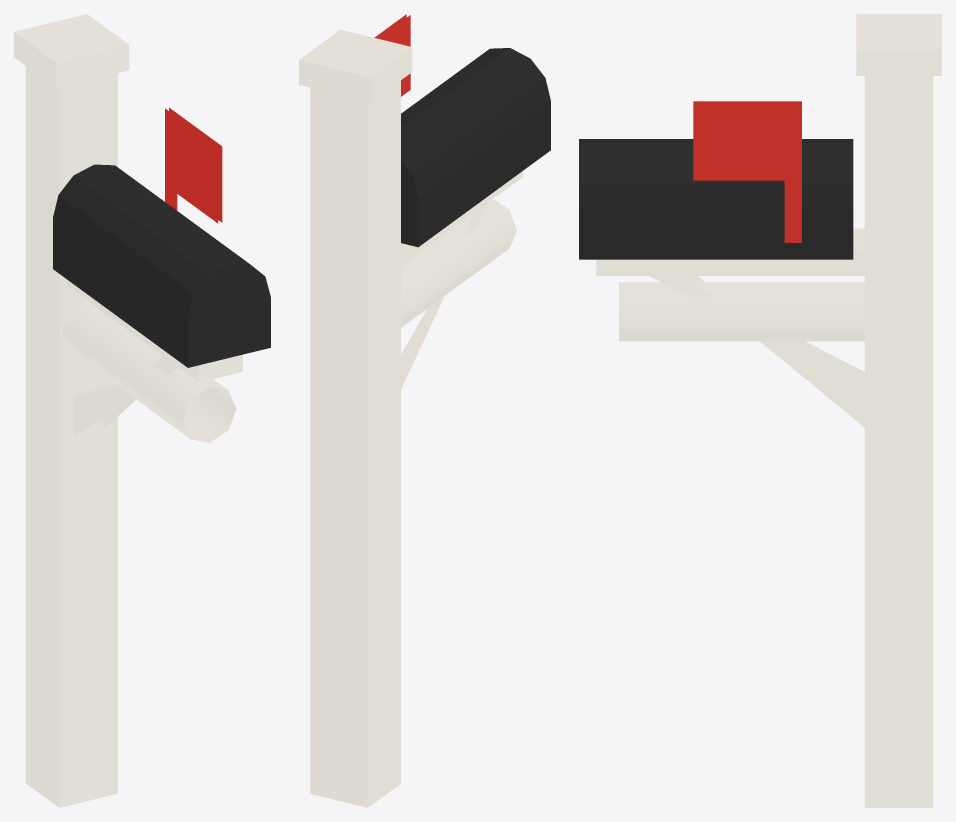
The model's file is Blender_Mailbox_1.glb.
3 renders of one model, left to right at view 1: azimuth 30°, elevation 25°; view 2: azimuth 150°, elevation 25°; view 3: azimuth 270°, elevation 25°, orthographic. The views are drawn at different scales.
Parts seen in each view (by area): view 1: Blender_Mailbox_1; view 2: Blender_Mailbox_1; view 3: Blender_Mailbox_1.
Part boxes in pixels (x1=…): Blender_Mailbox_1: x1=14, y1=14, x2=270, y2=807; Blender_Mailbox_1: x1=299, y1=14, x2=550, y2=807; Blender_Mailbox_1: x1=579, y1=14, x2=941, y2=807.
Size of the model in its own units: 0.186 by 1.47 by 0.635.
